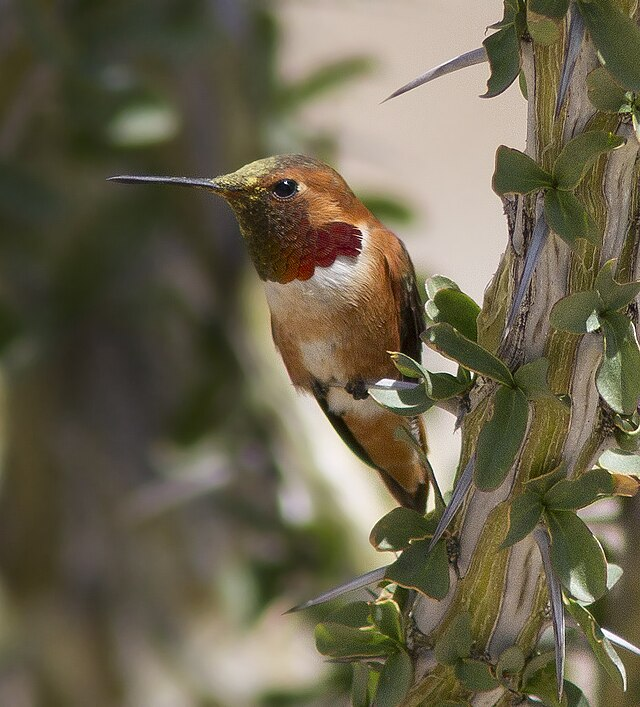selasphorus sasin: (105, 148, 434, 511)
